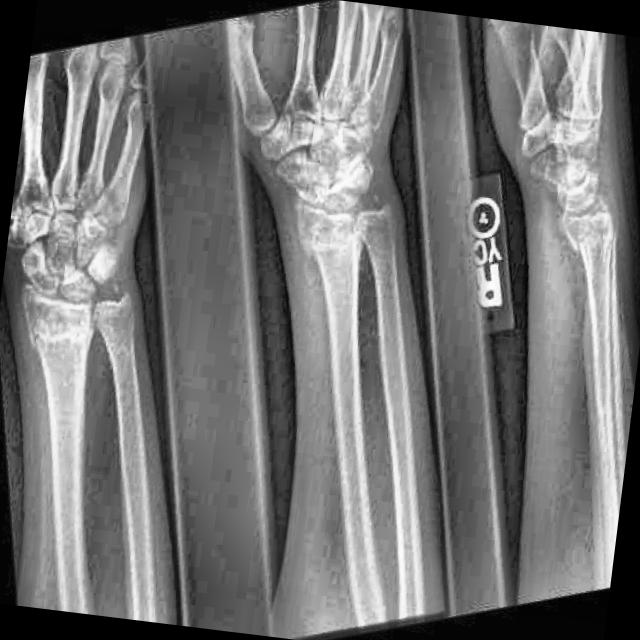fingers positive: (16, 282, 155, 373), (283, 198, 407, 278), (549, 209, 634, 294)
